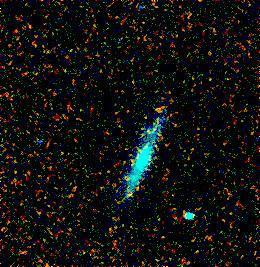star: (145, 90, 175, 120)
